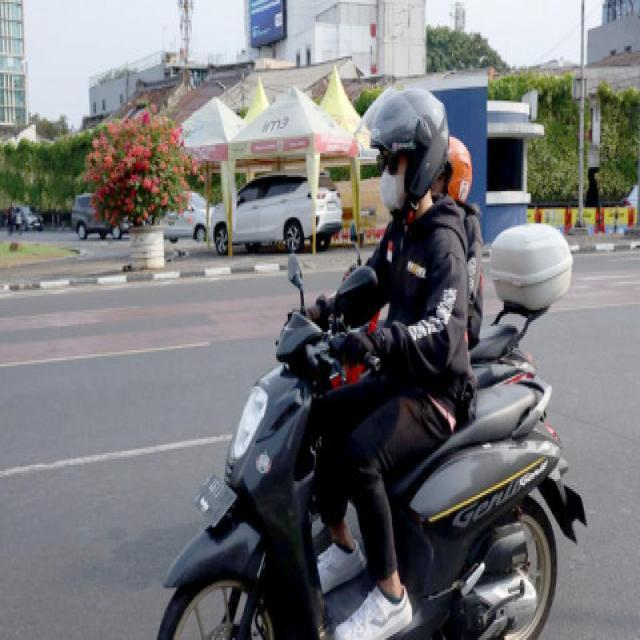Helmet: (371, 89, 448, 202), (448, 136, 472, 201)
Number Plate: (194, 475, 236, 527)
Rearview Mirror: (335, 266, 378, 326), (288, 253, 304, 311), (288, 254, 302, 289), (350, 222, 357, 243)
